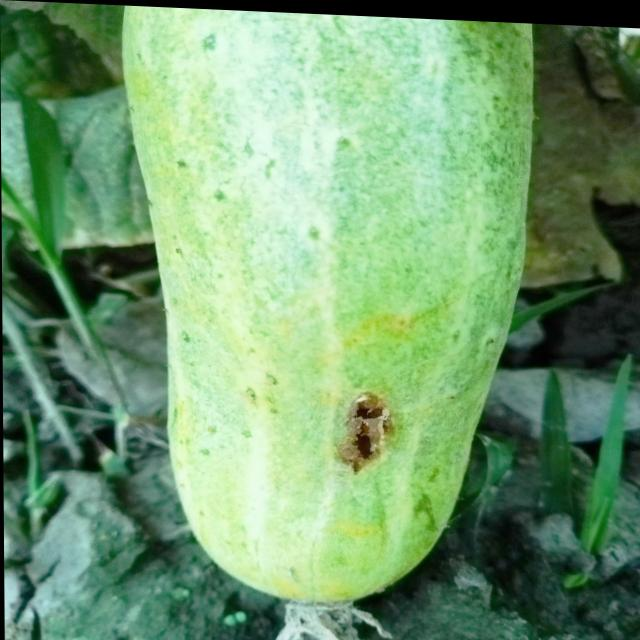Belly-Rot: (323, 375, 405, 484)
